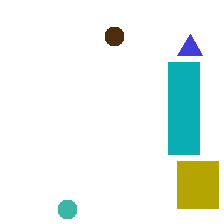circle: (58, 200, 76, 218), (105, 27, 123, 45)
rectangle: (168, 62, 199, 154), (177, 161, 218, 208)
triangle: (177, 34, 202, 55)
